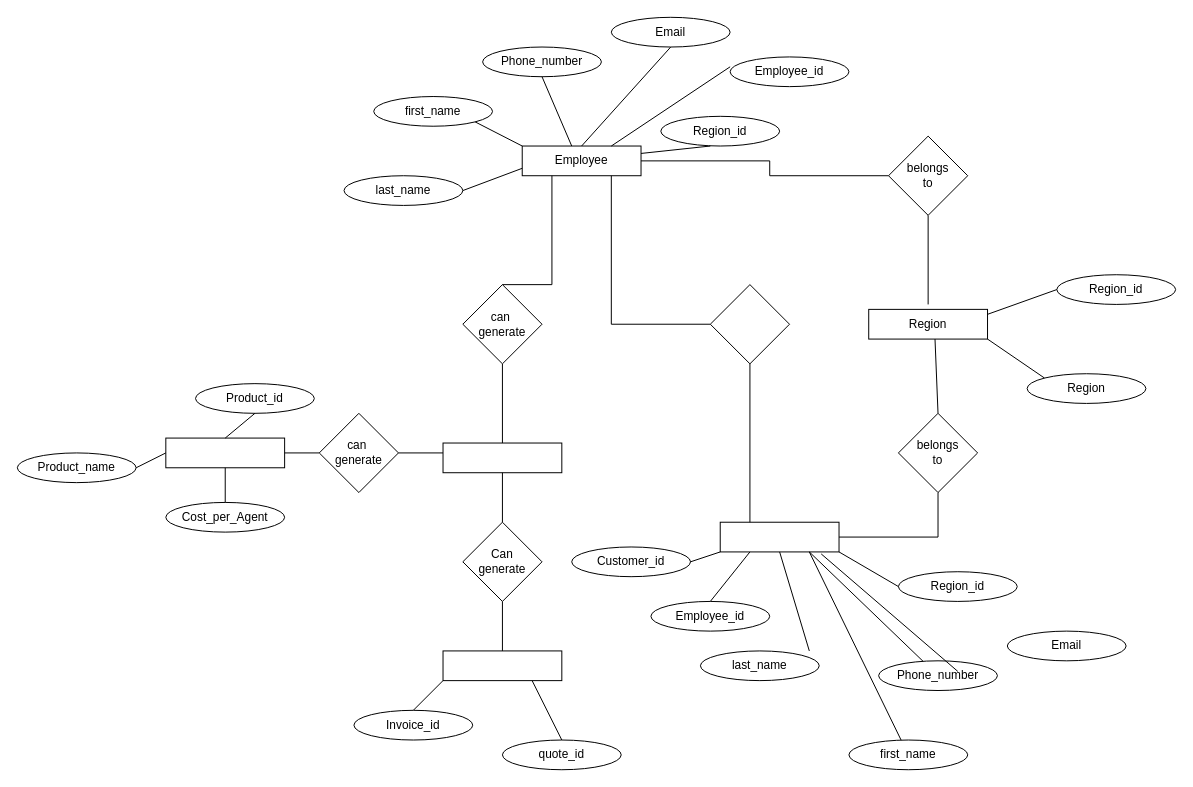
Image size: 1193x787. Some labels were removed from this diagram. The shapes that lost their labels are listed below. From the top down, each one's centre as x and y in pixels, then its label:
At point (749, 324): "Assigned to".
At point (225, 452): "Product".
At point (502, 457): "Accounts".
At point (779, 536): "Customer".
At point (502, 665): "Billing".
